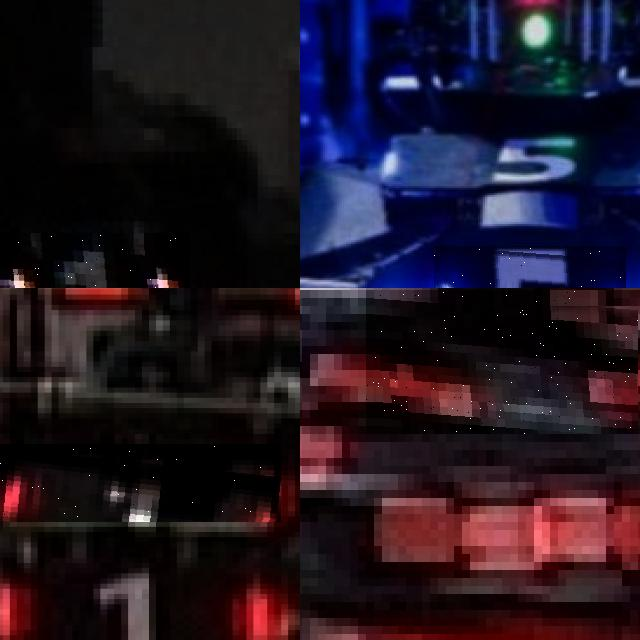B5: (433, 245, 626, 288)
R1: (0, 563, 295, 640), (0, 444, 281, 521), (0, 233, 190, 288)
R4: (366, 290, 638, 434)
